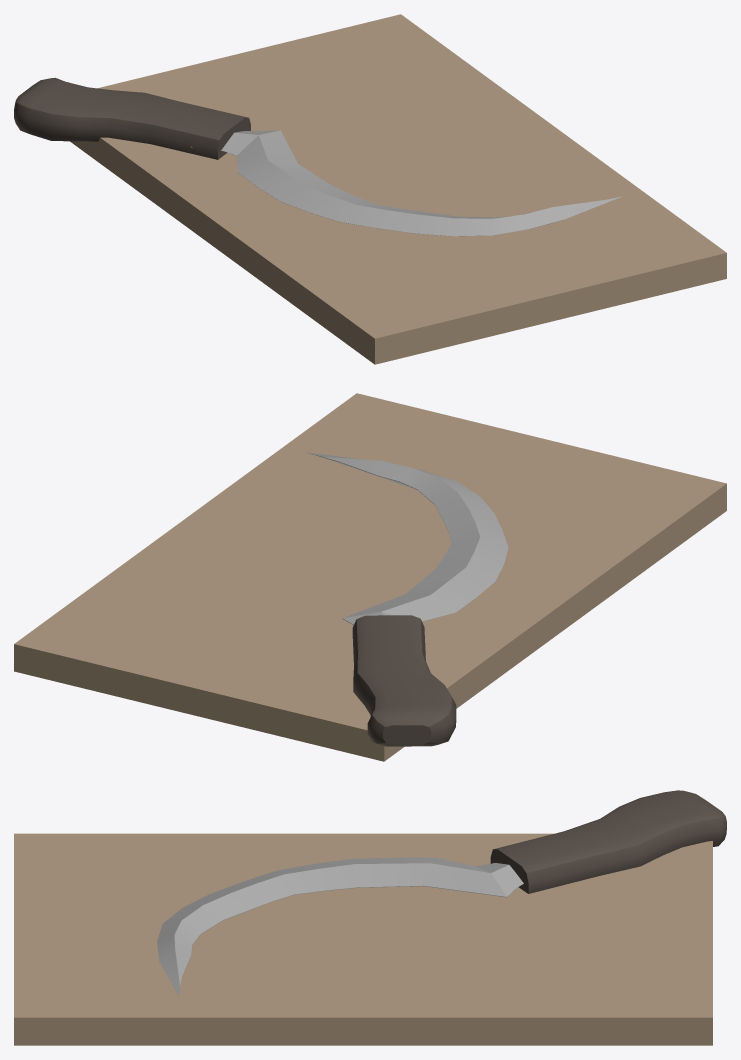
File: TablaParaCortar_blocking.fbx
3 views of the same model, one above another, from view 1: azimuth 30°, elevation 25°; view 2: azimuth 150°, elevation 25°; view 3: azimuth 270°, elevation 25° (orthographic). The views are drawn at different scales.
Parts seen in each view (by area): view 1: Tabla_de_cortar, Mango, Filo; view 2: Tabla_de_cortar, Filo, Mango; view 3: Tabla_de_cortar, Mango, Filo.
Boxes of the visible parts, x1,y1,x2,y2 form: Tabla_de_cortar: (70,14,726,364); Mango: (14,77,250,159); Filo: (191,130,621,236); Tabla_de_cortar: (14,393,726,761); Filo: (306,452,508,644); Mango: (352,615,456,746); Tabla_de_cortar: (14,833,712,1045); Mango: (490,790,726,893); Filo: (157,857,523,995).
Size of the model in its own units: 1.29 by 0.1471 by 1.86.
